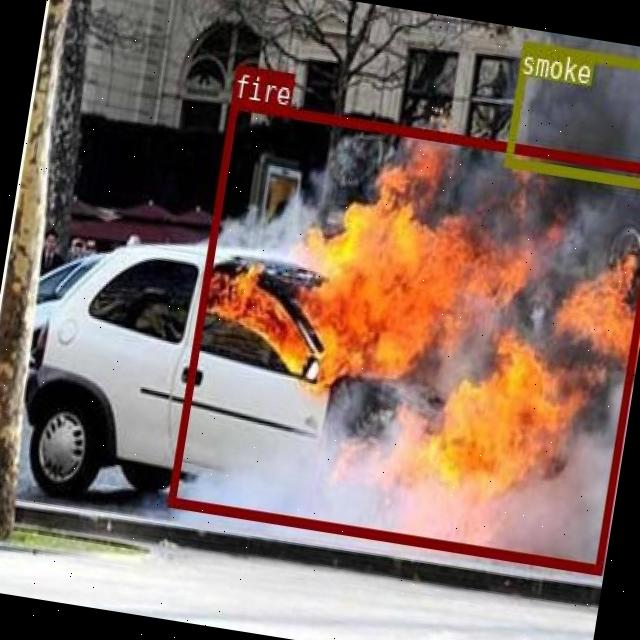fire: (167, 97, 640, 574)
smoke: (503, 39, 640, 186)
